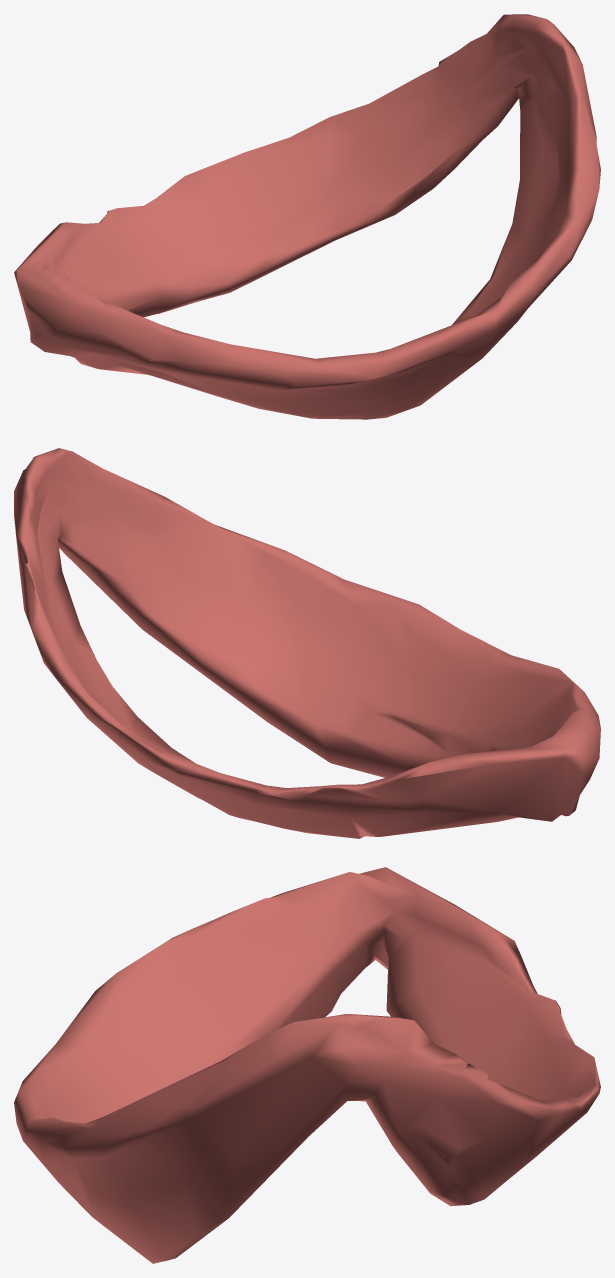
The picture shows the model from 3 angles, top to bottom: view 1: azimuth 30°, elevation 25°; view 2: azimuth 150°, elevation 25°; view 3: azimuth 270°, elevation 25°; orthographic projection. The views are drawn at different scales.
Visible parts, largest first — view 1: 左侧眼轮匝肌睑部; view 2: 左侧眼轮匝肌睑部; view 3: 左侧眼轮匝肌睑部.
Boxes of the visible parts, left/top/right/bottom form: 左侧眼轮匝肌睑部: left=14, top=14, right=600, bottom=419; 左侧眼轮匝肌睑部: left=14, top=448, right=600, bottom=838; 左侧眼轮匝肌睑部: left=14, top=867, right=600, bottom=1263.
Bounding box in the file's own units: 0.0495 × 0.0254 × 0.0356.
